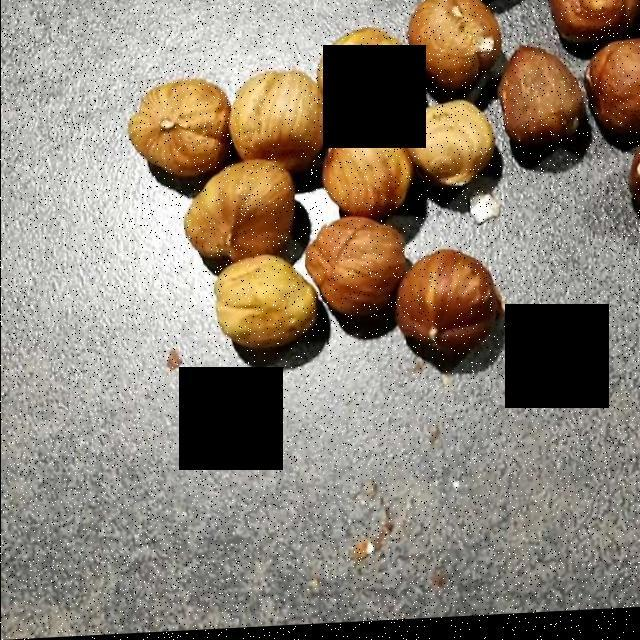hazelnut: (123, 0, 634, 361)
